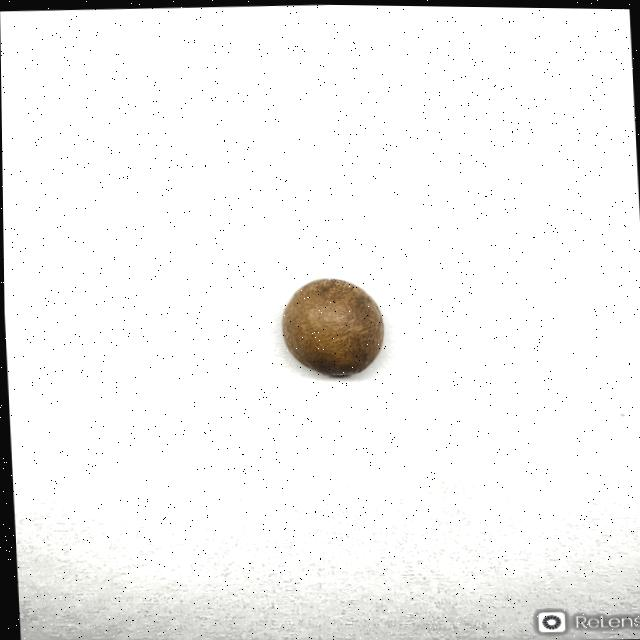Good bean: (277, 274, 385, 377)
